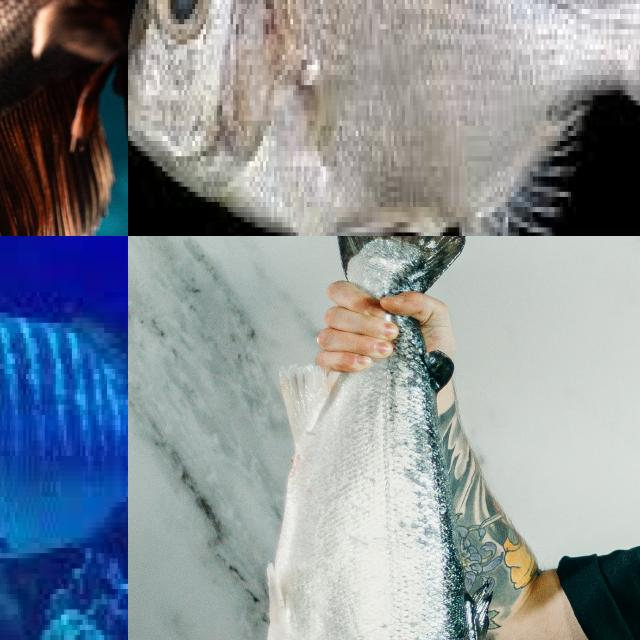fish: (156, 336, 640, 640), (128, 0, 640, 236), (0, 389, 128, 640), (0, 0, 128, 236)
